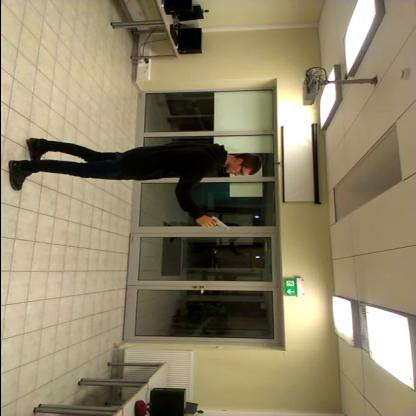Pistol: (179, 209, 237, 238)
